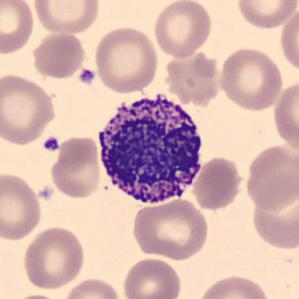Basophil: (92, 86, 209, 212)
Platelets: (42, 135, 60, 153), (78, 68, 96, 85), (38, 185, 55, 201)
RBC: (130, 196, 211, 261), (92, 25, 160, 95), (217, 45, 284, 112), (0, 72, 59, 146), (21, 224, 87, 290), (243, 142, 298, 213), (47, 134, 103, 201), (151, 0, 214, 59), (165, 49, 221, 109), (190, 154, 245, 212), (252, 186, 299, 252), (0, 170, 43, 242), (30, 30, 86, 80), (120, 256, 184, 299), (30, 0, 102, 36), (271, 78, 298, 156), (195, 272, 272, 299), (0, 0, 36, 56), (234, 0, 297, 30), (61, 275, 123, 299), (278, 5, 298, 75), (7, 292, 65, 299)
